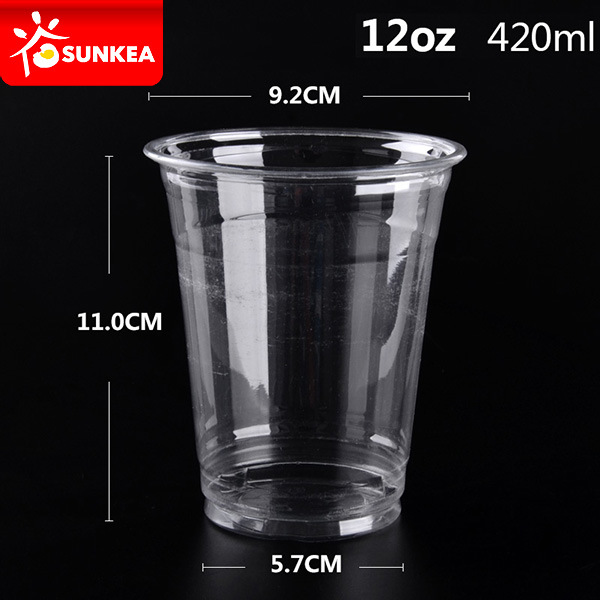plastic_bottle: (140, 125, 471, 546)
